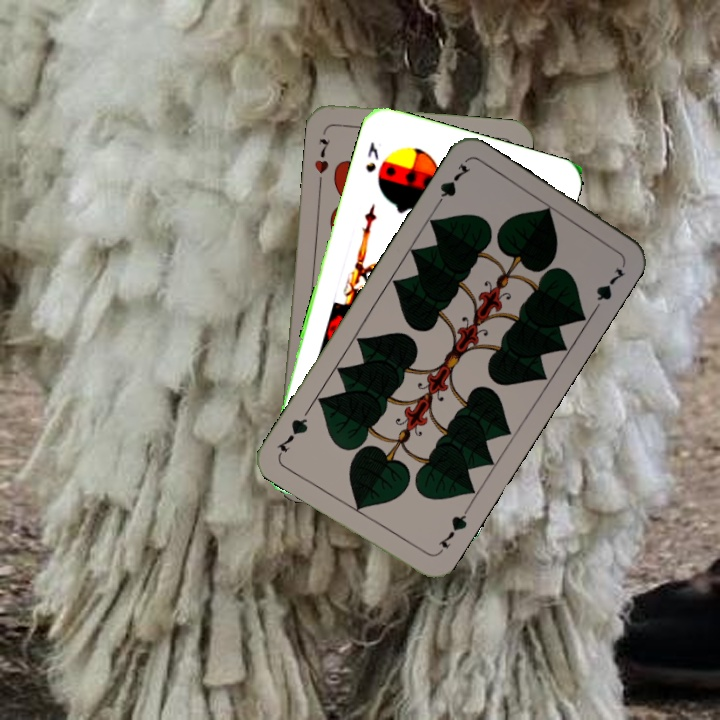G7: (430, 159, 474, 212), (433, 505, 472, 557)
H7: (310, 134, 333, 176)
SK: (361, 138, 381, 175)
